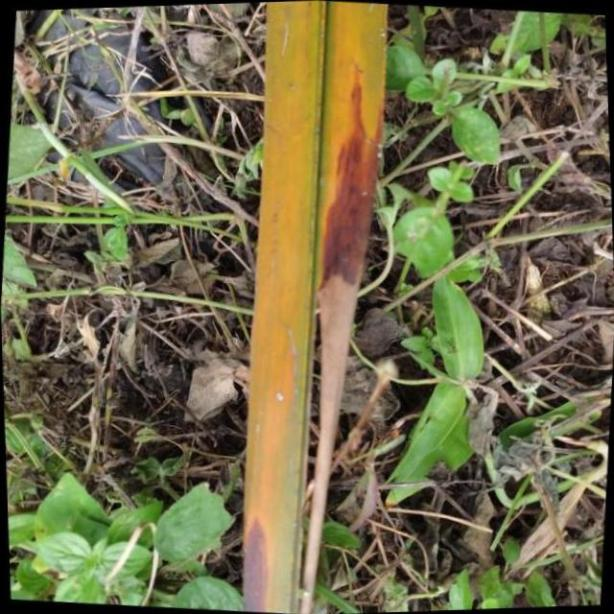Megnesium: (243, 0, 392, 614)
